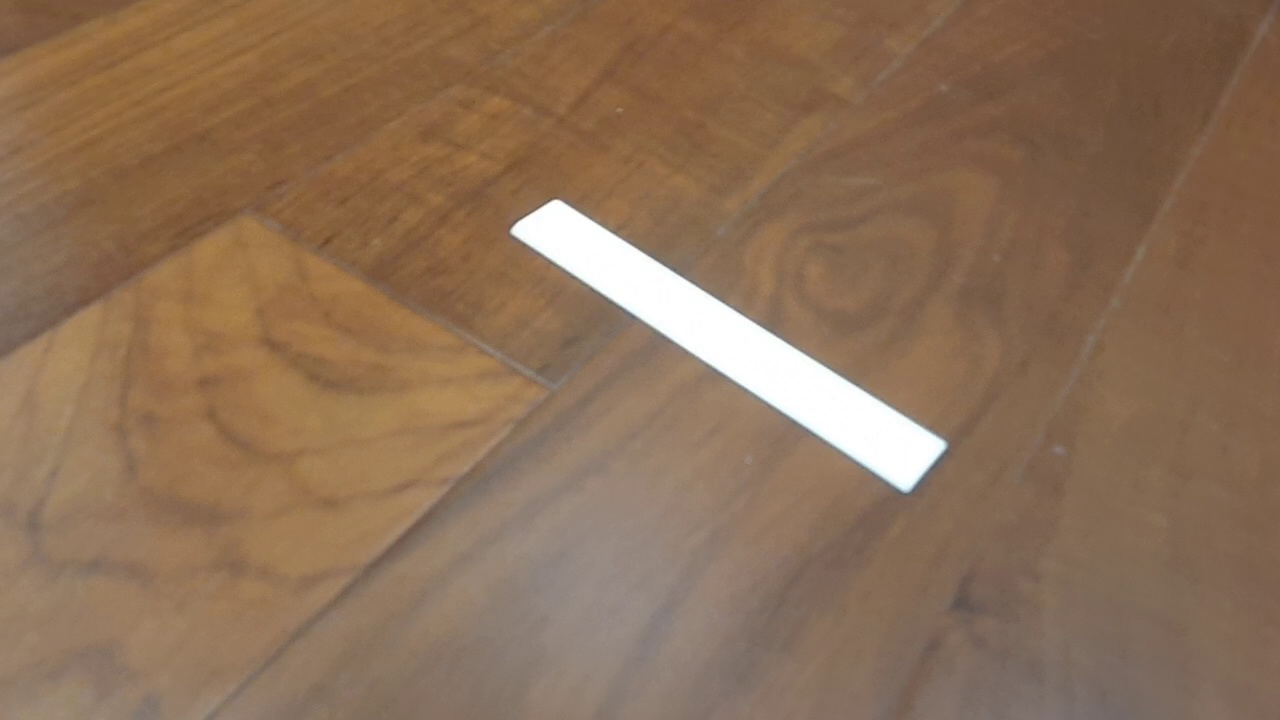ruler: (508, 197, 950, 495)
